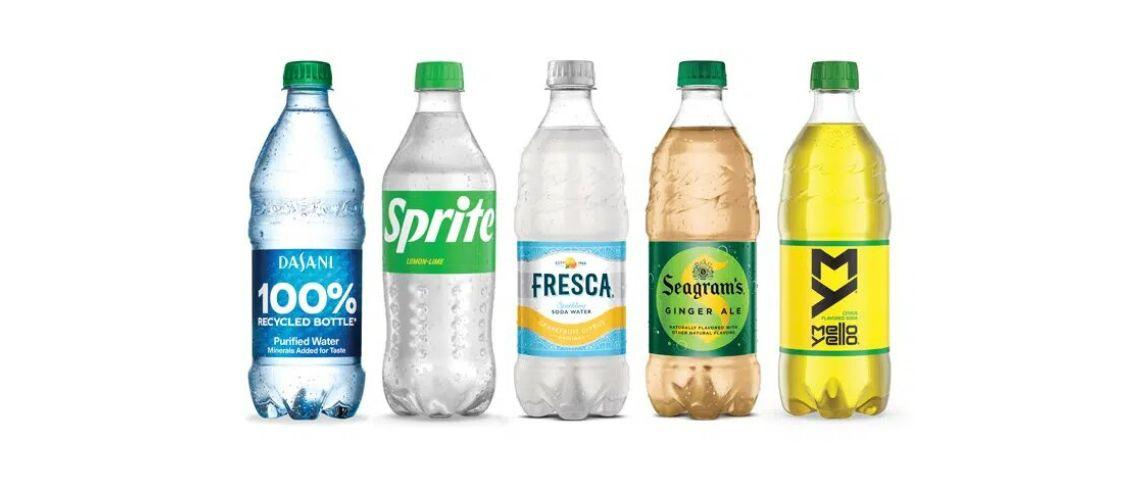paper: (248, 61, 364, 419), (381, 61, 497, 417), (514, 61, 628, 420), (645, 60, 759, 419), (779, 62, 890, 418)
